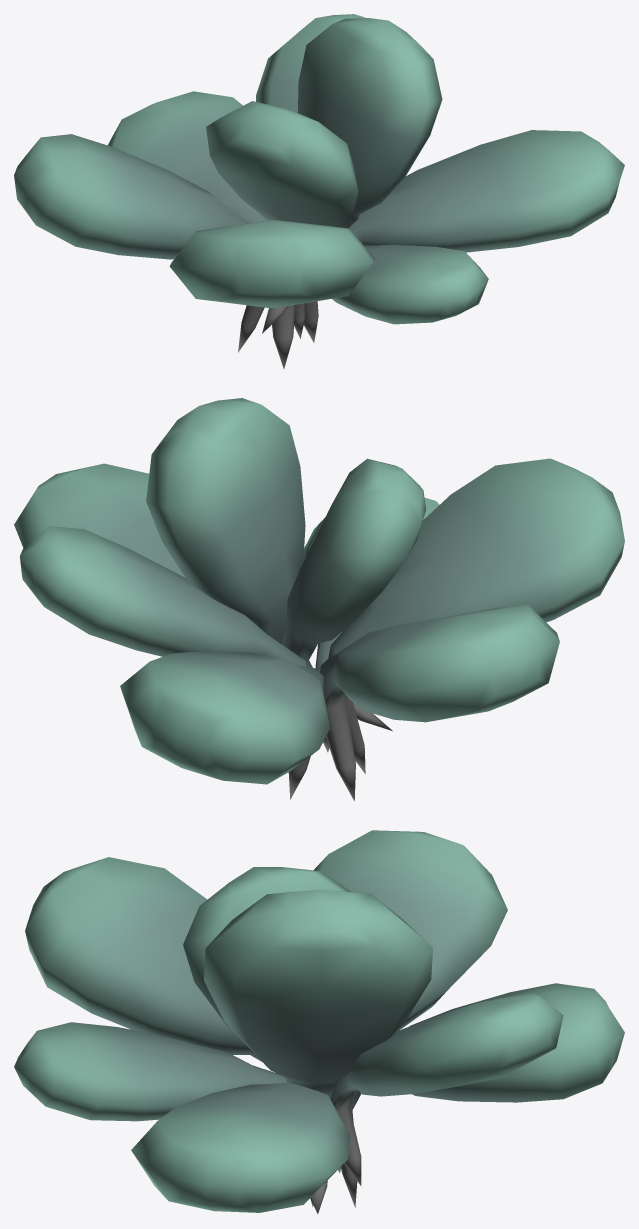
File: plants-cacti-succulents-paddle-succulent_v2.fbx
3 renders of one model, top to bottom at view 1: azimuth 30°, elevation 25°; view 2: azimuth 150°, elevation 25°; view 3: azimuth 270°, elevation 25°, orthographic. The views are drawn at different scales.
Parts seen in each view (by area): view 1: Paddle Succulent_v2; view 2: Paddle Succulent_v2; view 3: Paddle Succulent_v2.
Part boxes in pixels (x1,y1,x2,y2): Paddle Succulent_v2: (14,14,624,368); Paddle Succulent_v2: (14,398,624,800); Paddle Succulent_v2: (14,830,624,1213).
Bounding box in the file's own units: 0.15 × 0.0859 × 0.1322.
